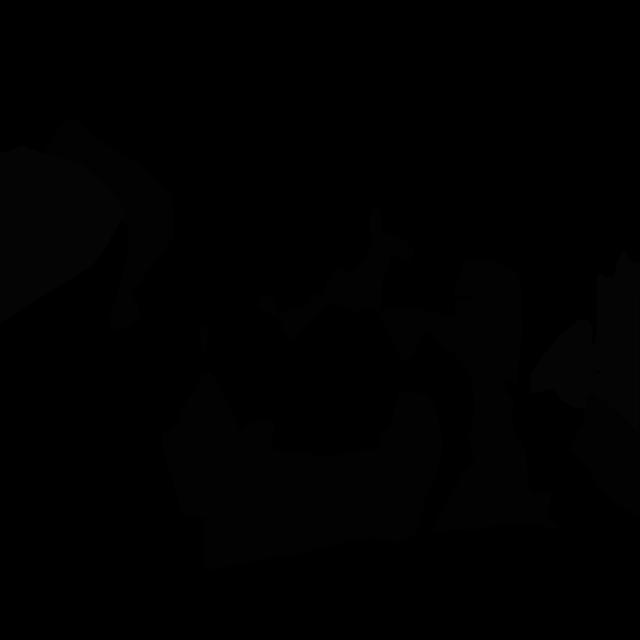cardboard: (162, 372, 377, 570), (378, 306, 557, 535), (43, 117, 174, 330), (296, 392, 443, 543), (571, 393, 640, 522), (453, 257, 523, 384), (350, 203, 416, 312), (279, 269, 374, 341), (258, 296, 279, 319), (198, 326, 210, 356)
soft_plastic: (0, 145, 124, 323), (590, 250, 640, 435), (530, 319, 609, 409)
